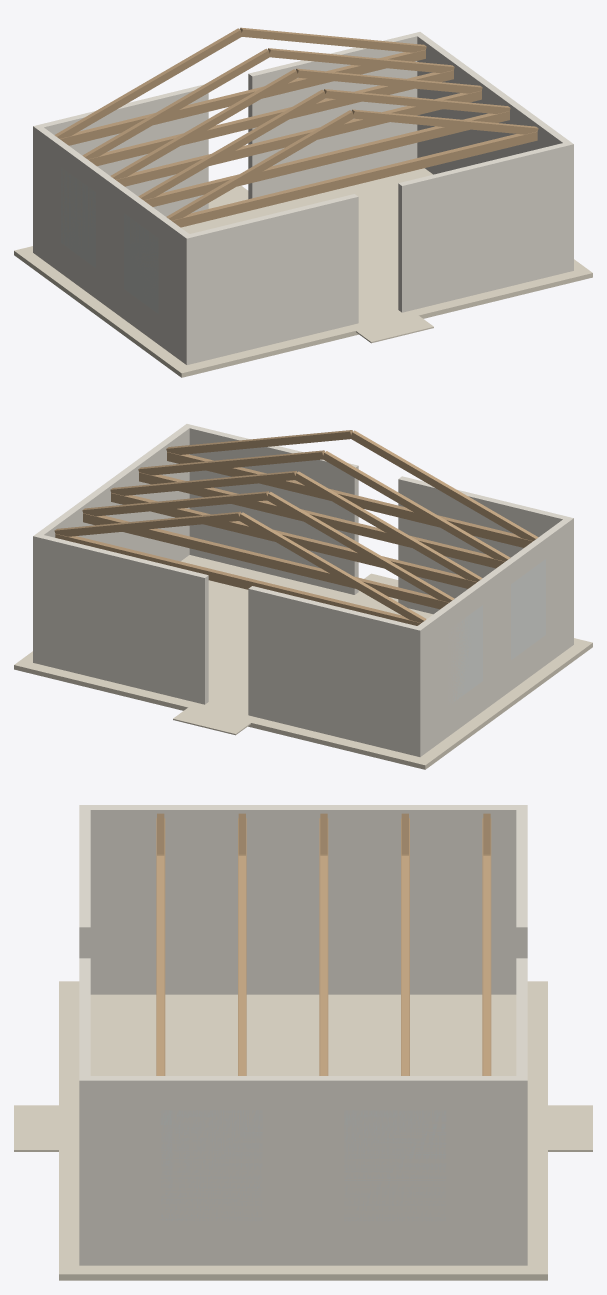
File: events-gatherings-hub.lod1.glb
The picture shows the model from 3 angles, top to bottom: view 1: azimuth 30°, elevation 25°; view 2: azimuth 150°, elevation 25°; view 3: azimuth 270°, elevation 25°; orthographic projection. The views are drawn at different scales.
Bounding box in the file's own units: 17 × 7.58 × 14.2.
